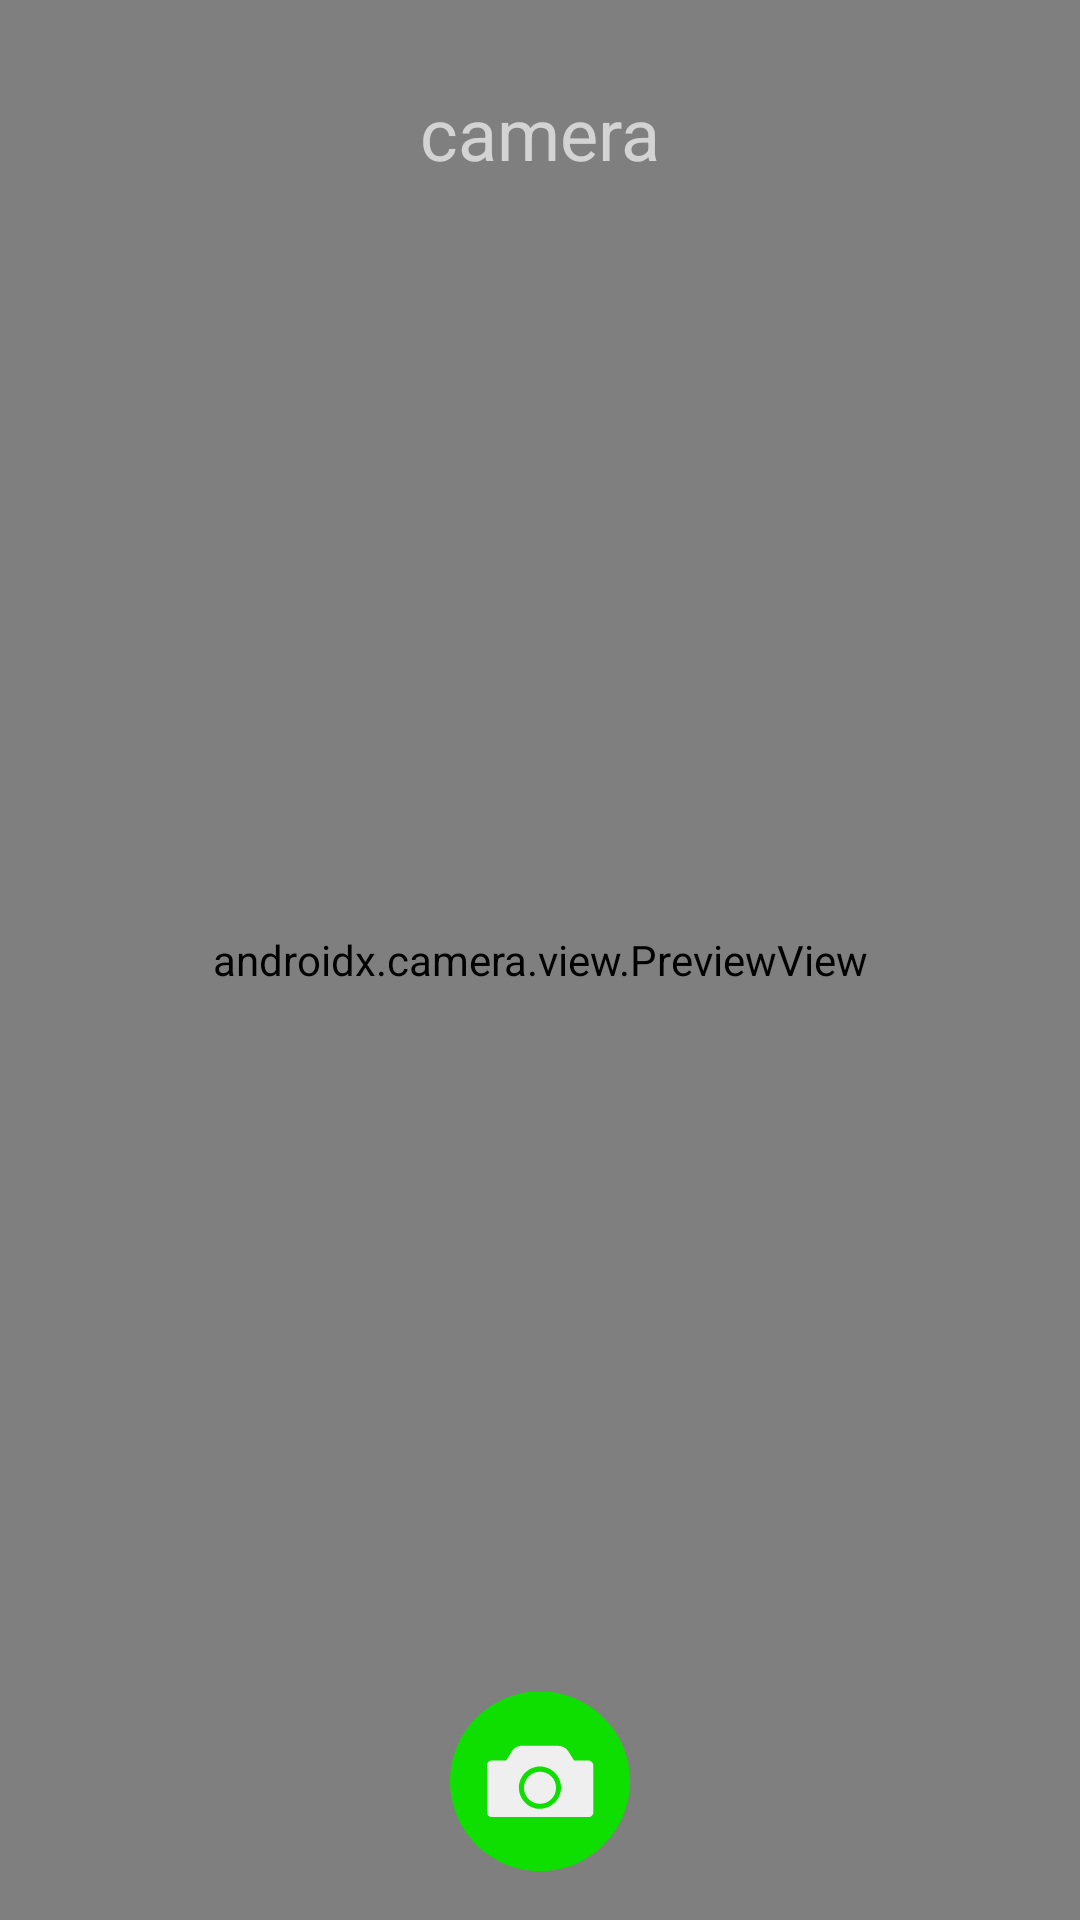

Point at icon controls on the screen. Image size 1080x1920, points as point (x, y).
capture: point (540, 1782)
